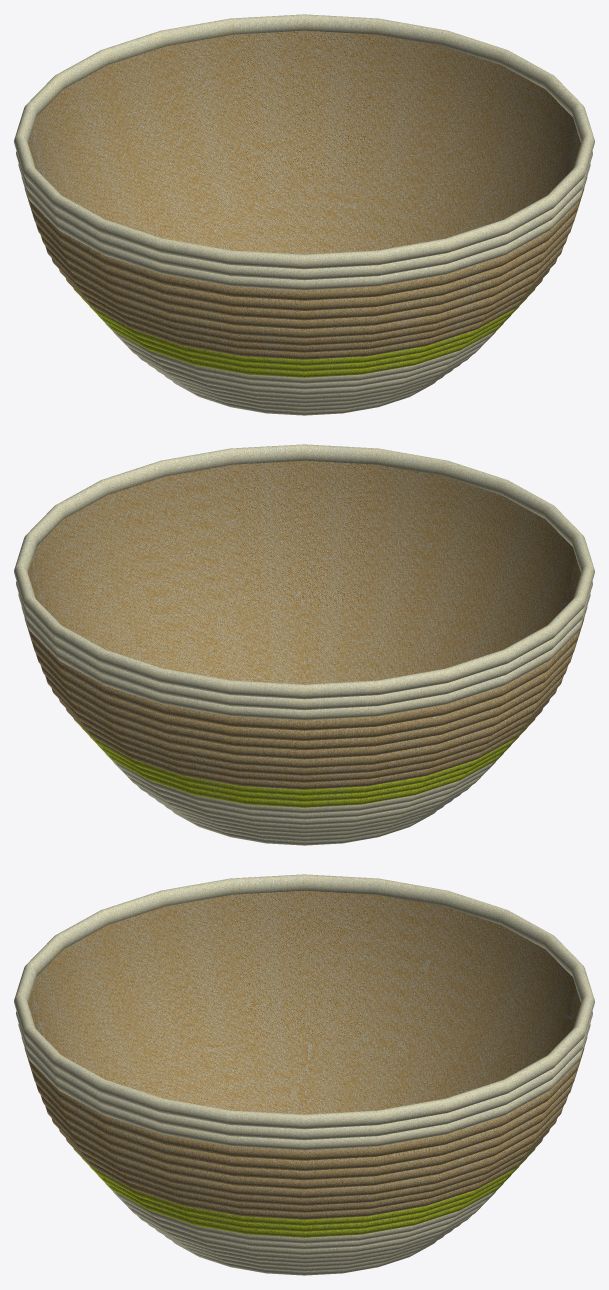
3 renders of one model, top to bottom at view 1: azimuth 30°, elevation 25°; view 2: azimuth 150°, elevation 25°; view 3: azimuth 270°, elevation 25°, orthographic.
Parts seen in each view (by area): view 1: Componente_40 (×5); view 2: Componente_40 (×5); view 3: Componente_40 (×5).
Part boxes in pixels (left/top/right/bottom): Componente_40 (×5): left=14, top=14, right=594, bottom=415; Componente_40 (×5): left=14, top=444, right=594, bottom=845; Componente_40 (×5): left=14, top=874, right=594, bottom=1275.
Size of the model in its own units: 14.49 by 14.49 by 6.02.
